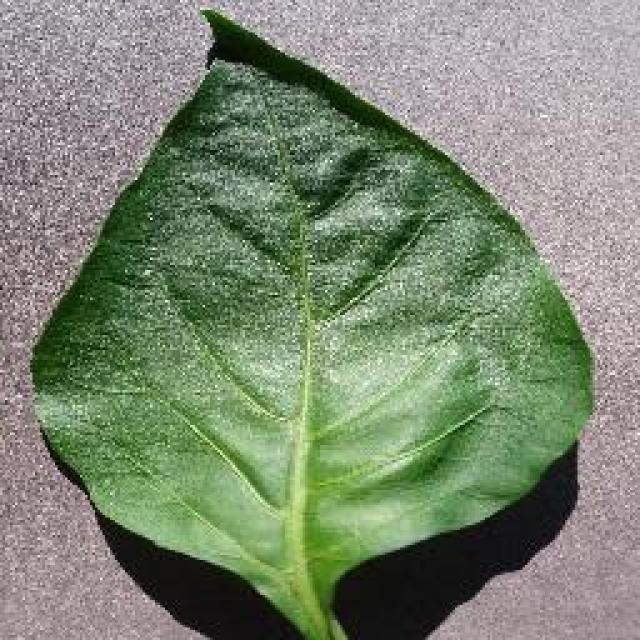Chilli_Healthy: (27, 5, 595, 637)
